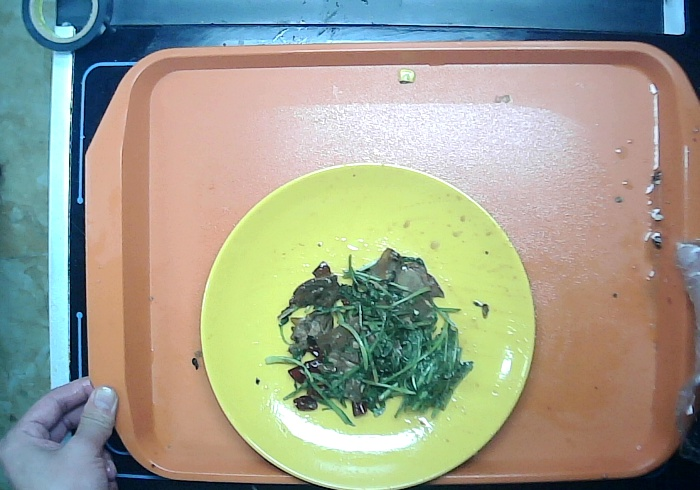HZYJPL-Huang_Se_Yuan_Pan: (190, 137, 542, 490)
